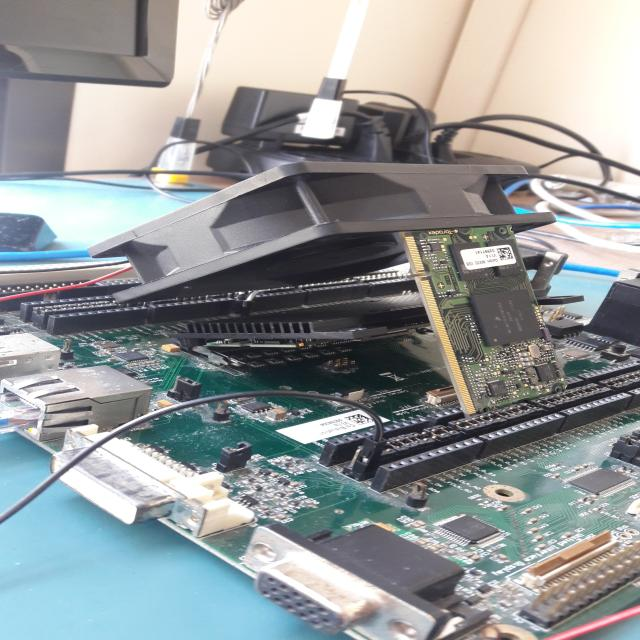som: (383, 215, 575, 408)
